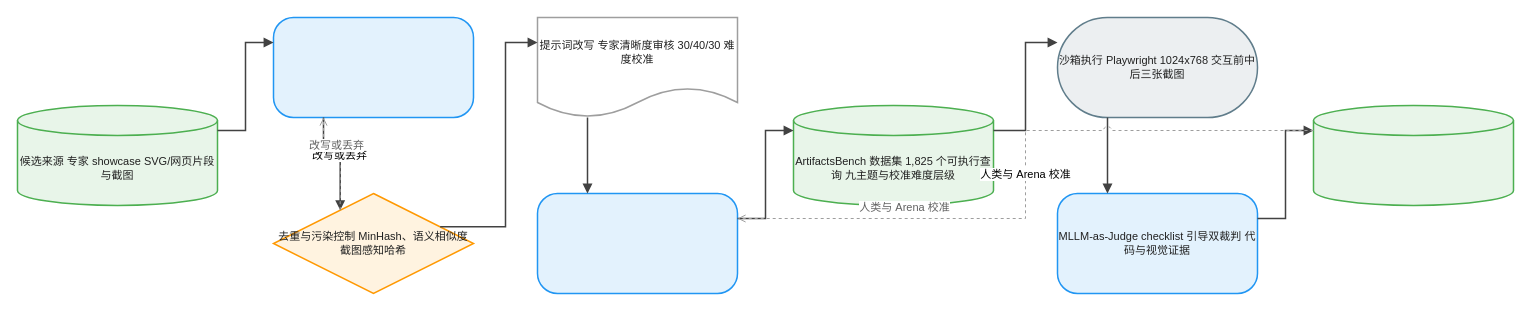
Some shapes in this 1532 by 312 pixel diagram are drawn without their labels. The shapes that lost their labels are listed below. From the top down, each one's centre as x and y in pixels, then its label:
At point 373,67: "来源过滤 移除无效、简单 非视觉或非交互项".
At point 1413,155: "对齐报告 280 例人类研究 WebDev Arena 一致性 94.4%".
At point 637,243: "Checklist 校准 10 个维度 LLM 草拟并人工精修".
